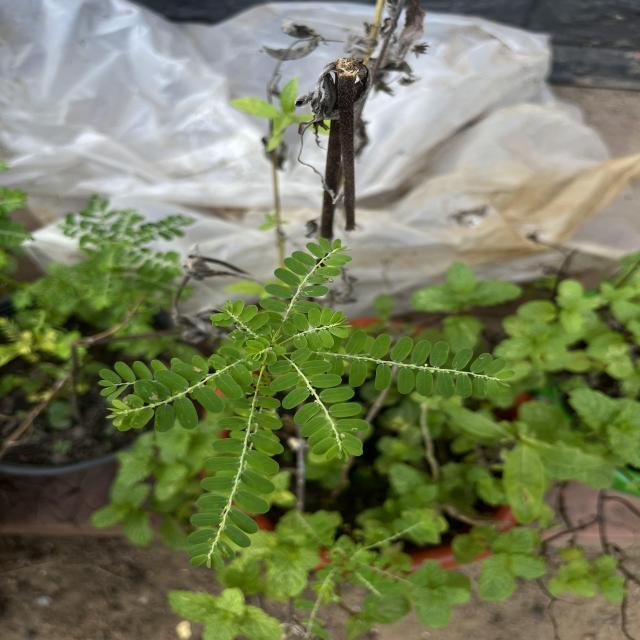Phyllanthus niruri: (184, 378, 285, 574), (314, 328, 518, 401), (104, 344, 265, 433), (265, 346, 374, 464), (256, 236, 352, 334), (279, 306, 354, 350), (207, 296, 273, 344)
